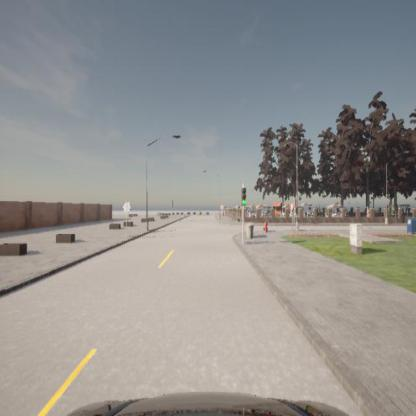traffic_light_green: (242, 187, 246, 206)
